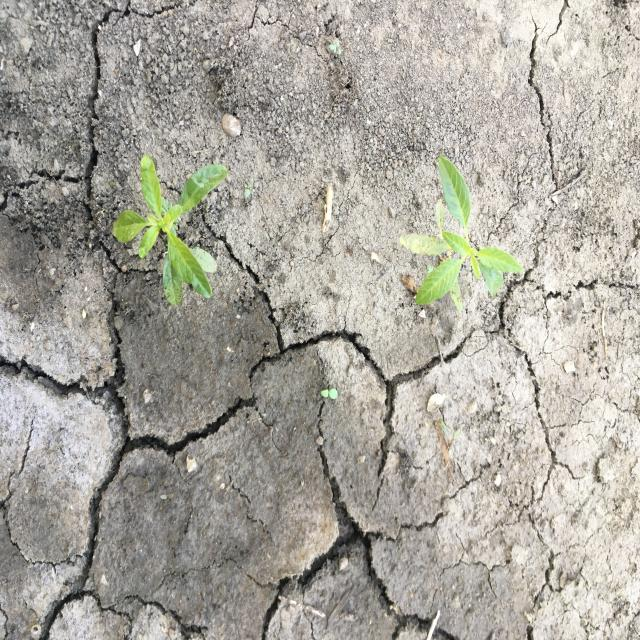Waterhemp: (398, 154, 525, 314), (109, 155, 231, 308)
